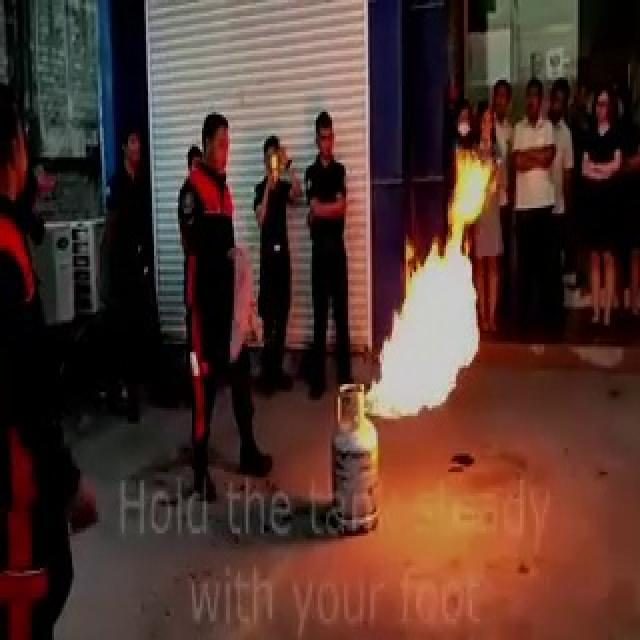Fire: (362, 144, 501, 423)
